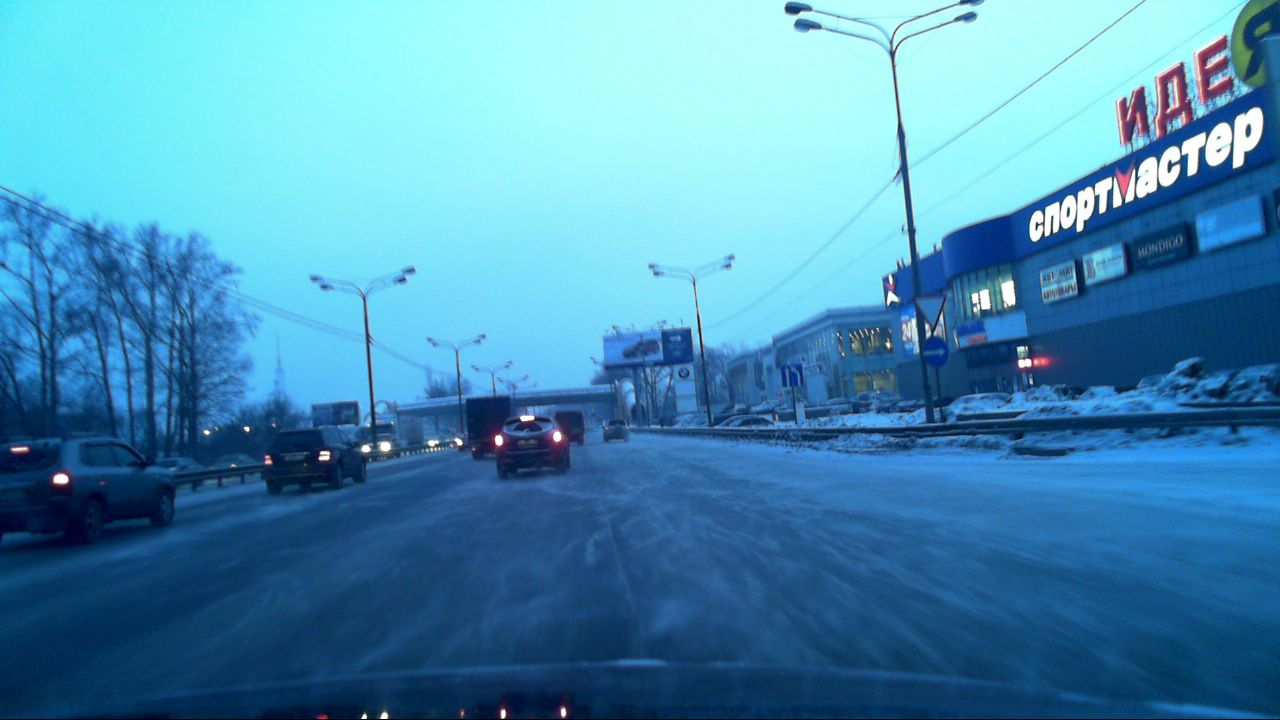Turn Right: (922, 335, 950, 368)
